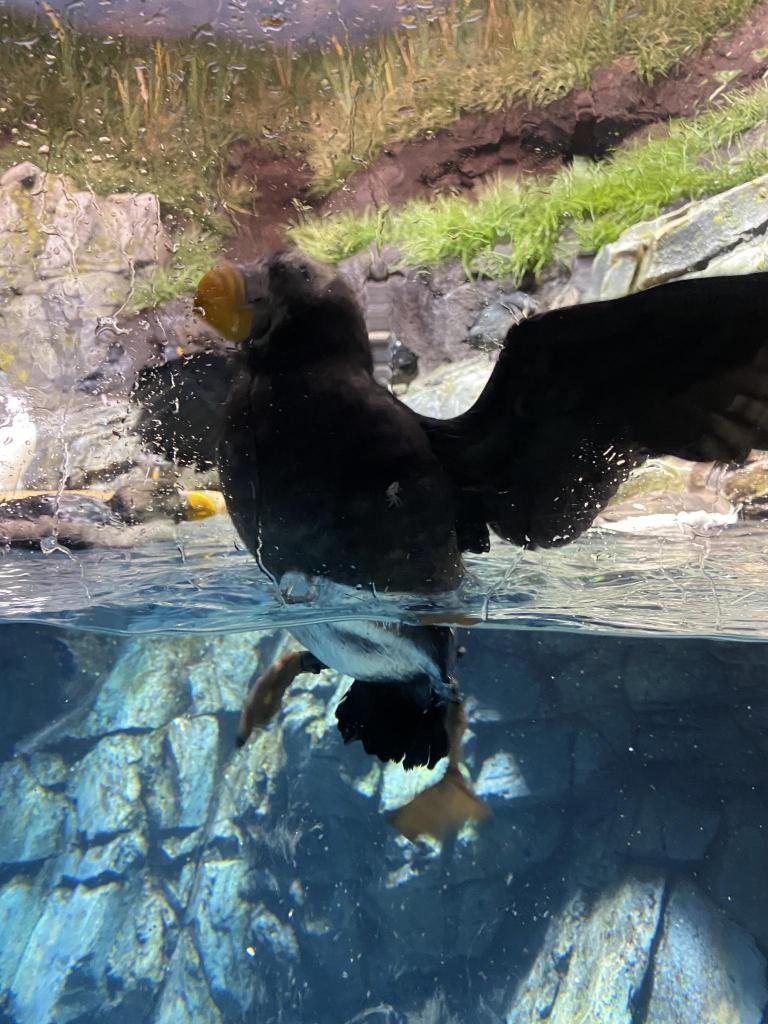puffin: (127, 226, 767, 844), (0, 473, 219, 561)
